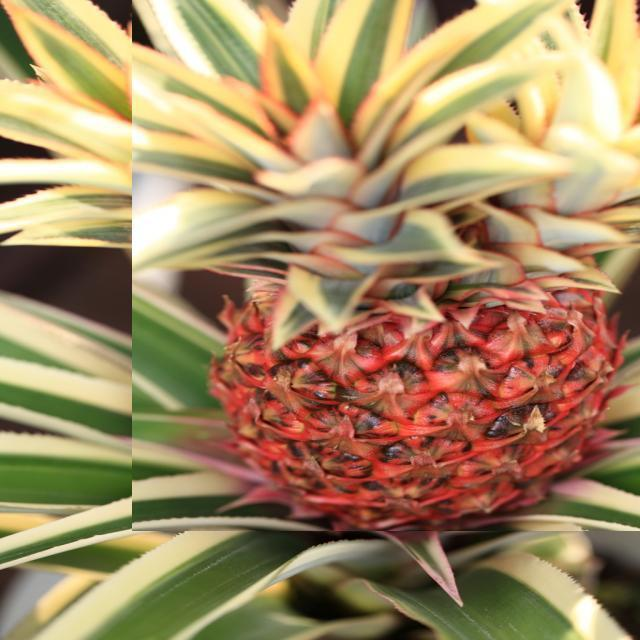Pineapple: (132, 0, 640, 531)
